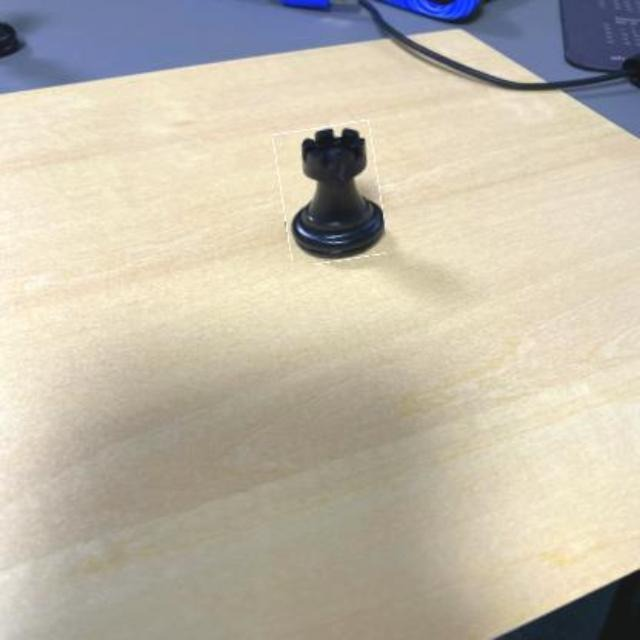black-rook: (277, 123, 383, 263)
